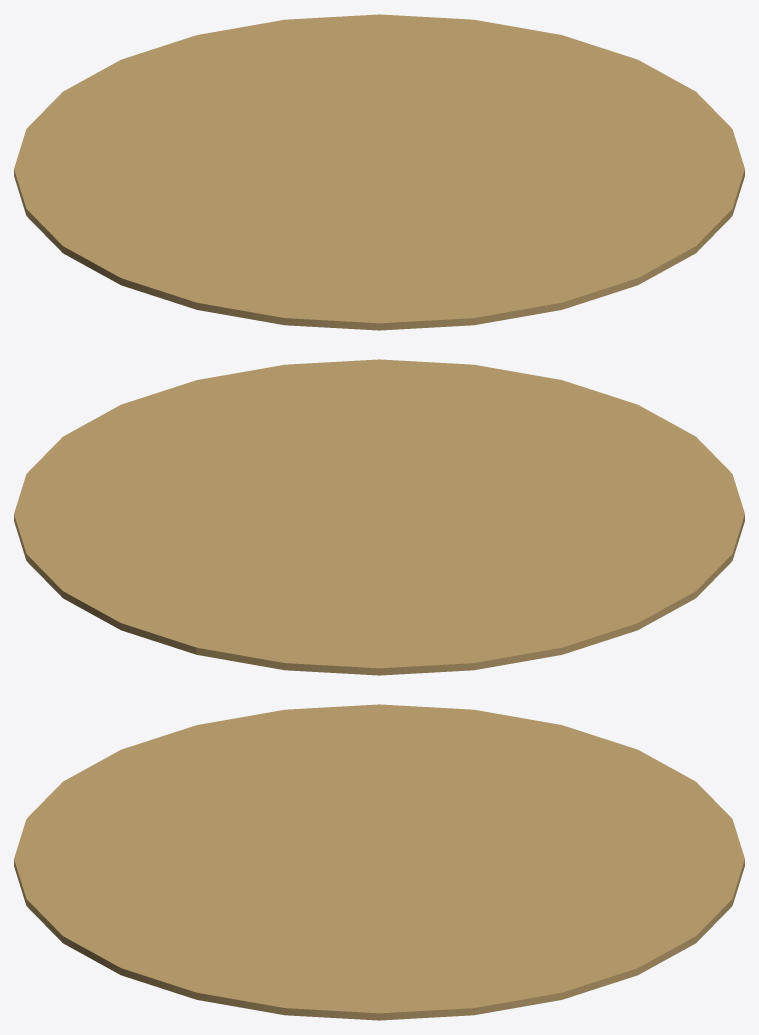
The model's file is rug_round.glb.
The picture shows the model from 3 angles, top to bottom: view 1: azimuth 30°, elevation 25°; view 2: azimuth 150°, elevation 25°; view 3: azimuth 270°, elevation 25°; orthographic projection.
Parts seen in each view (by area): view 1: rugRound(Clone); view 2: rugRound(Clone); view 3: rugRound(Clone).
Boxes of the visible parts, x1=… form: rugRound(Clone): x1=14, y1=14, x2=744, y2=330; rugRound(Clone): x1=14, y1=359, x2=744, y2=675; rugRound(Clone): x1=14, y1=704, x2=744, y2=1020.
Size of the model in its own units: 1.47 by 0.016 by 1.47.
